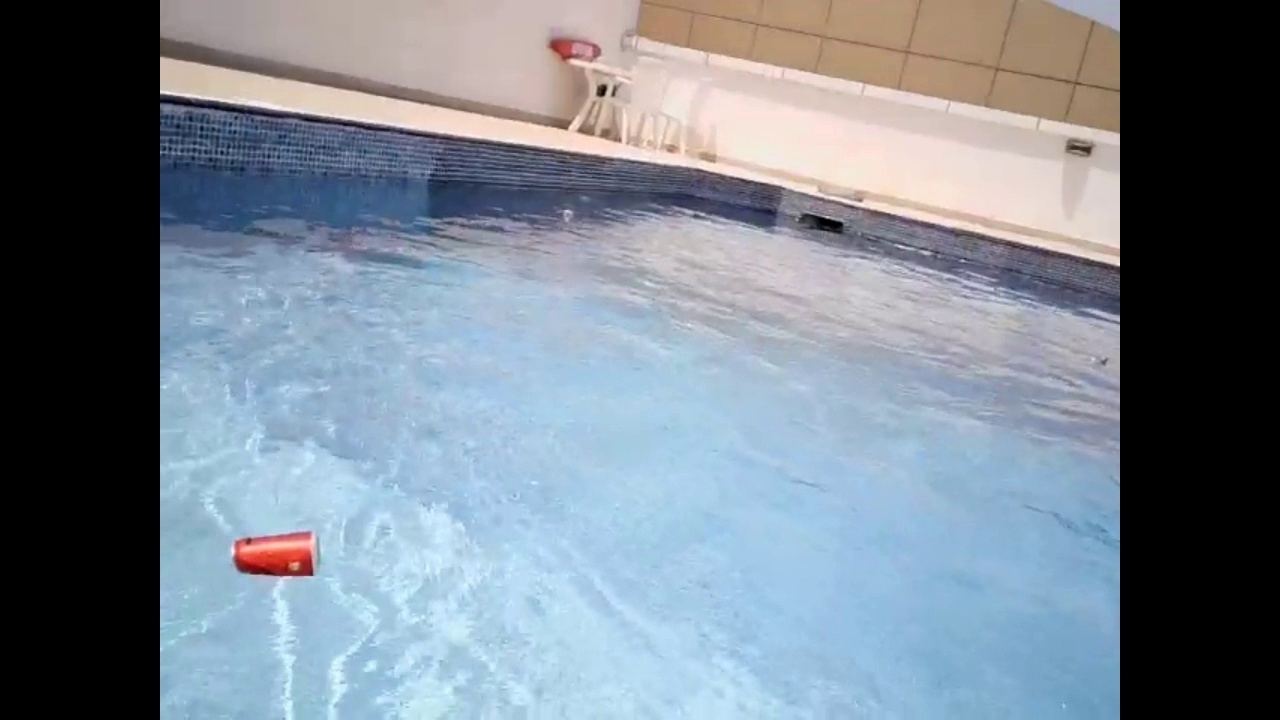debris: (222, 520, 332, 587), (1086, 349, 1114, 371), (559, 206, 576, 223)
